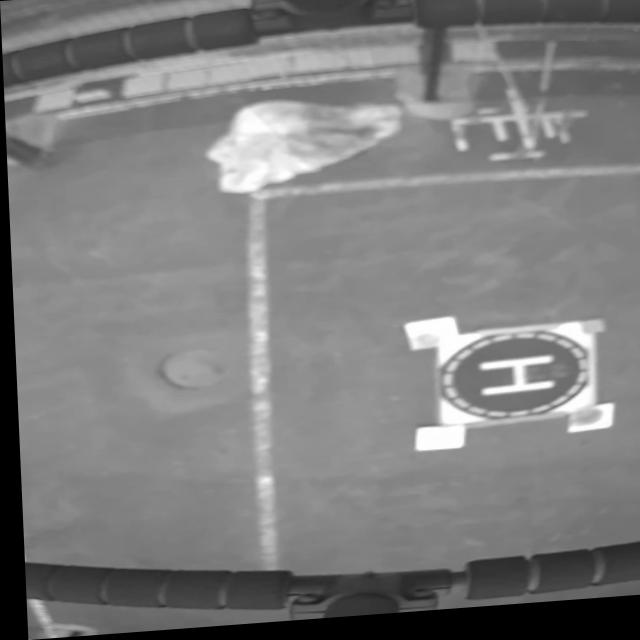Helipad: (475, 363, 552, 403)
